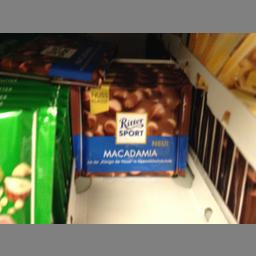chocolate: (71, 84, 191, 180)
